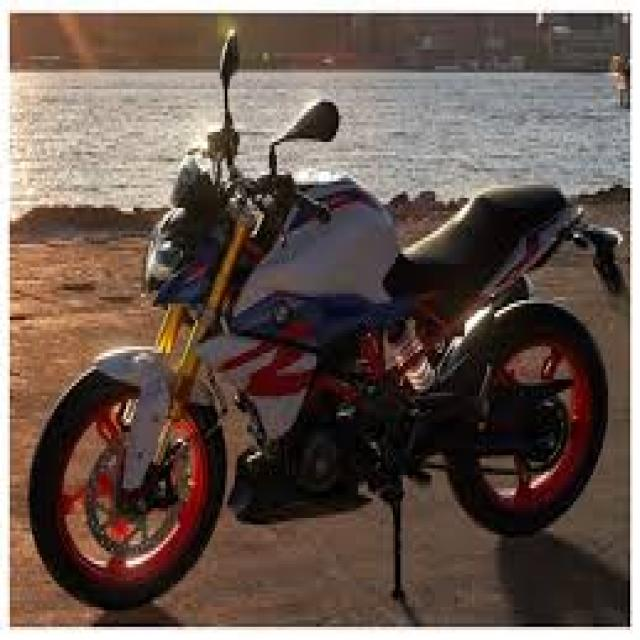Bike: (30, 73, 624, 622)
